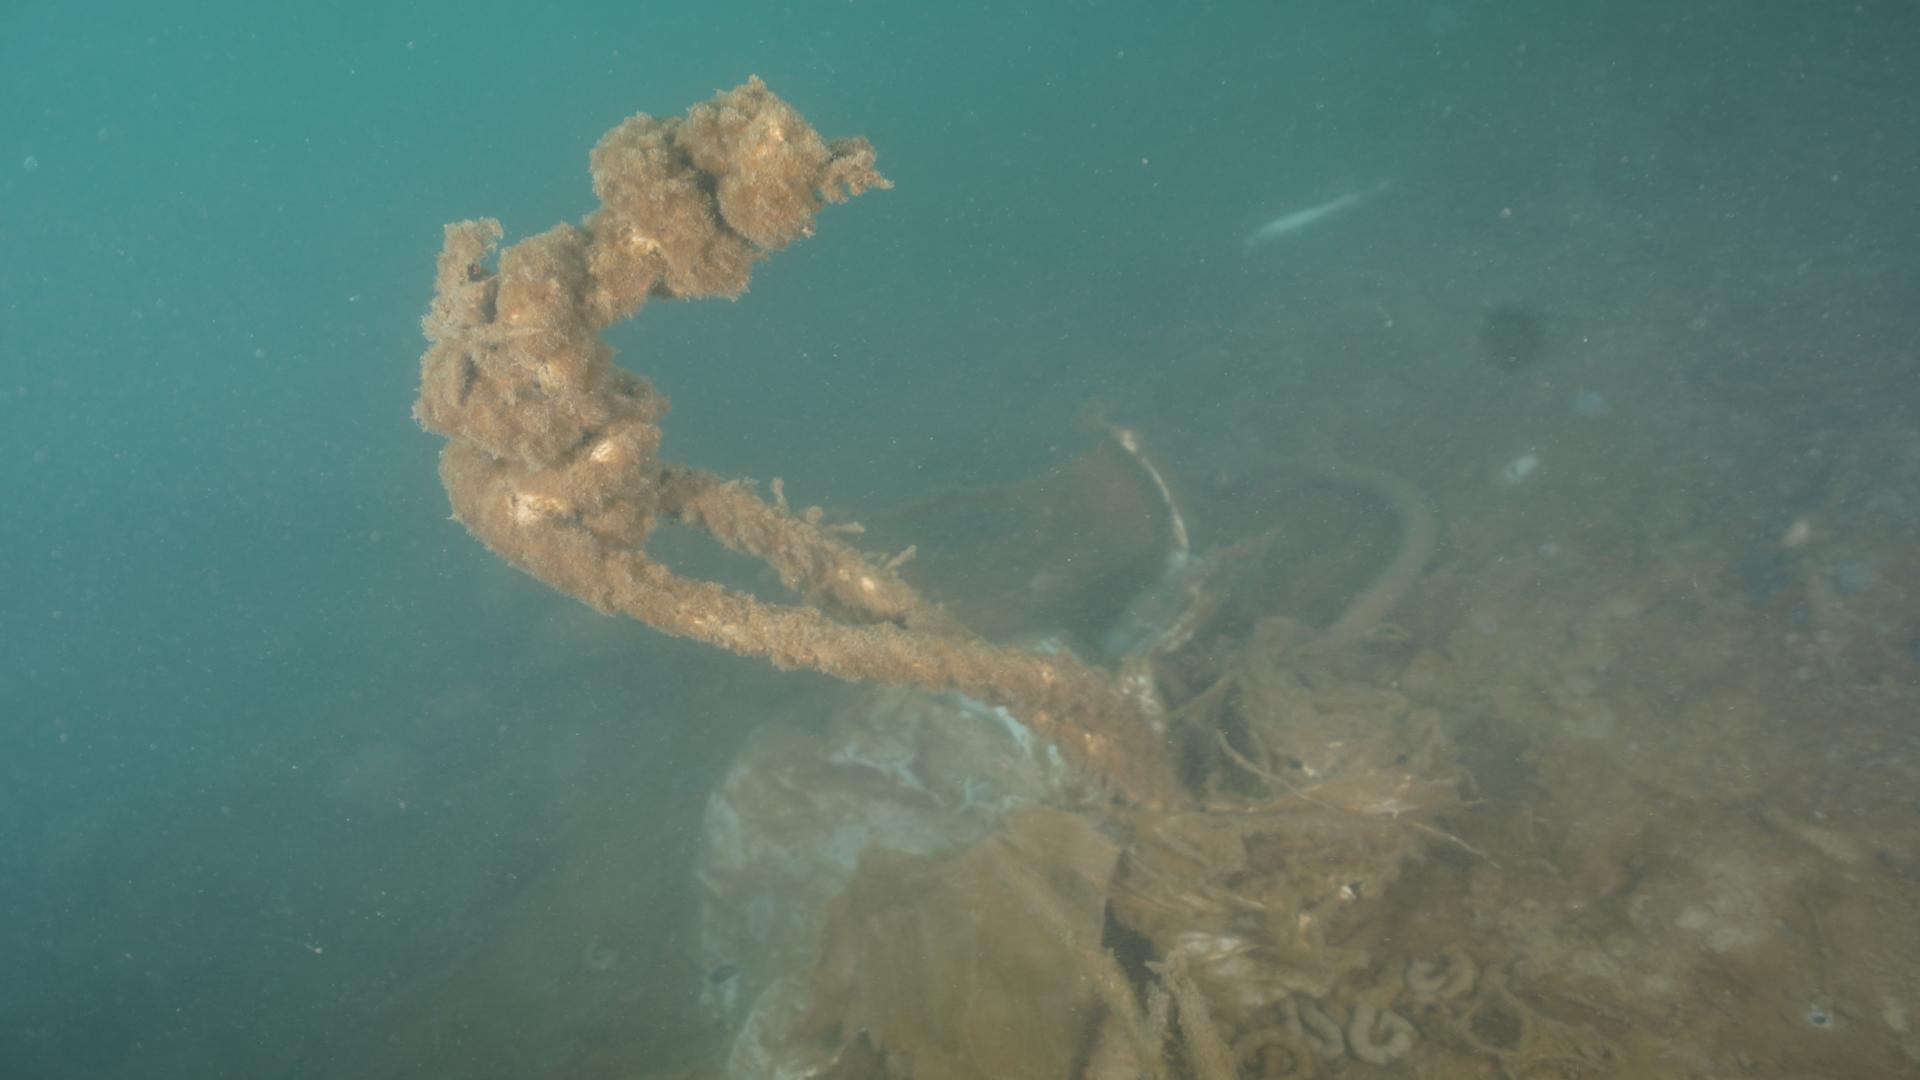bundle of ropes: (406, 76, 1124, 724)
